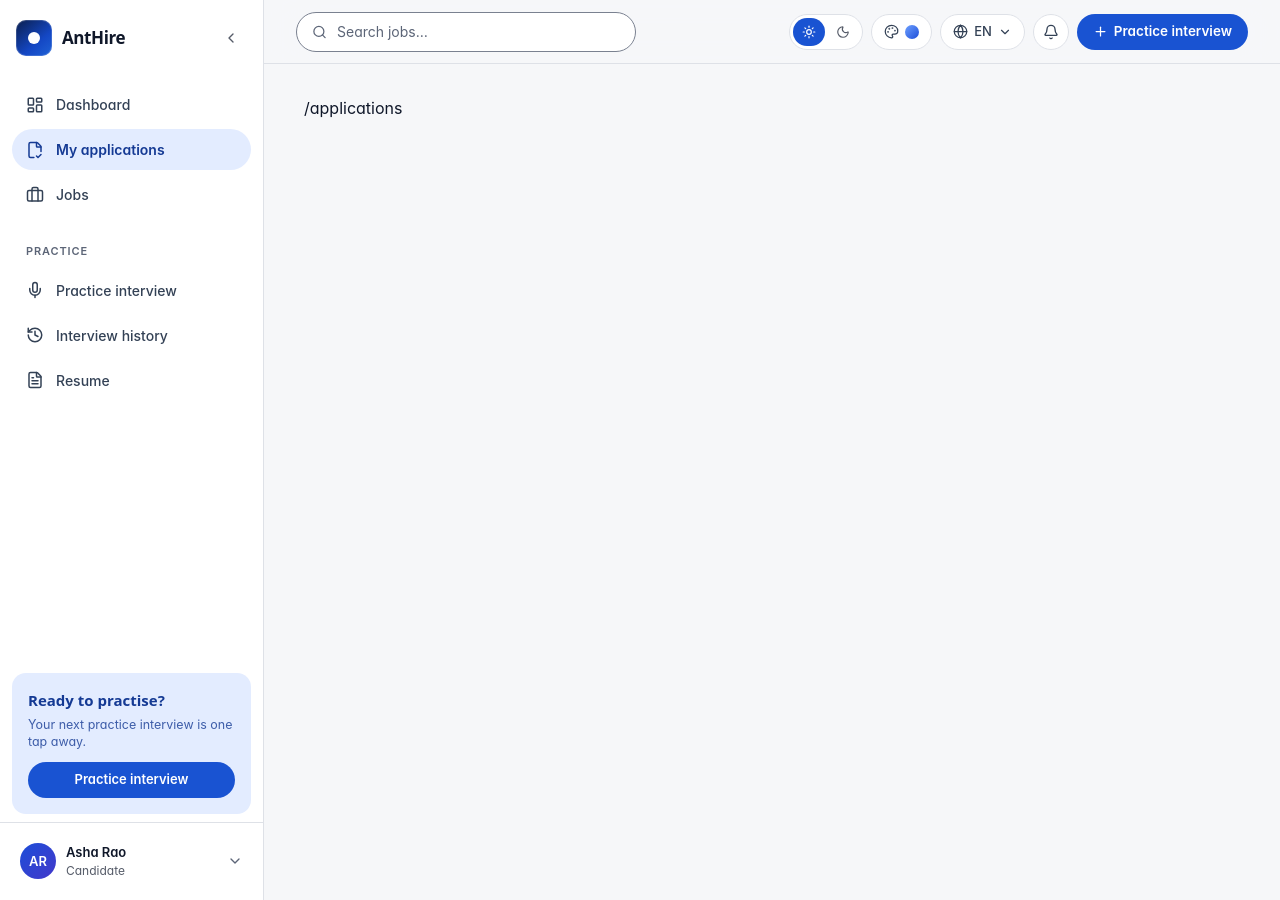
Test: AppShell - search and storage › carries the typed term to /jobs
Type "data entry" into the search field labelled "Search jobs" at (466, 32), box left=296, top=12, right=636, bottom=52
Then press Enter
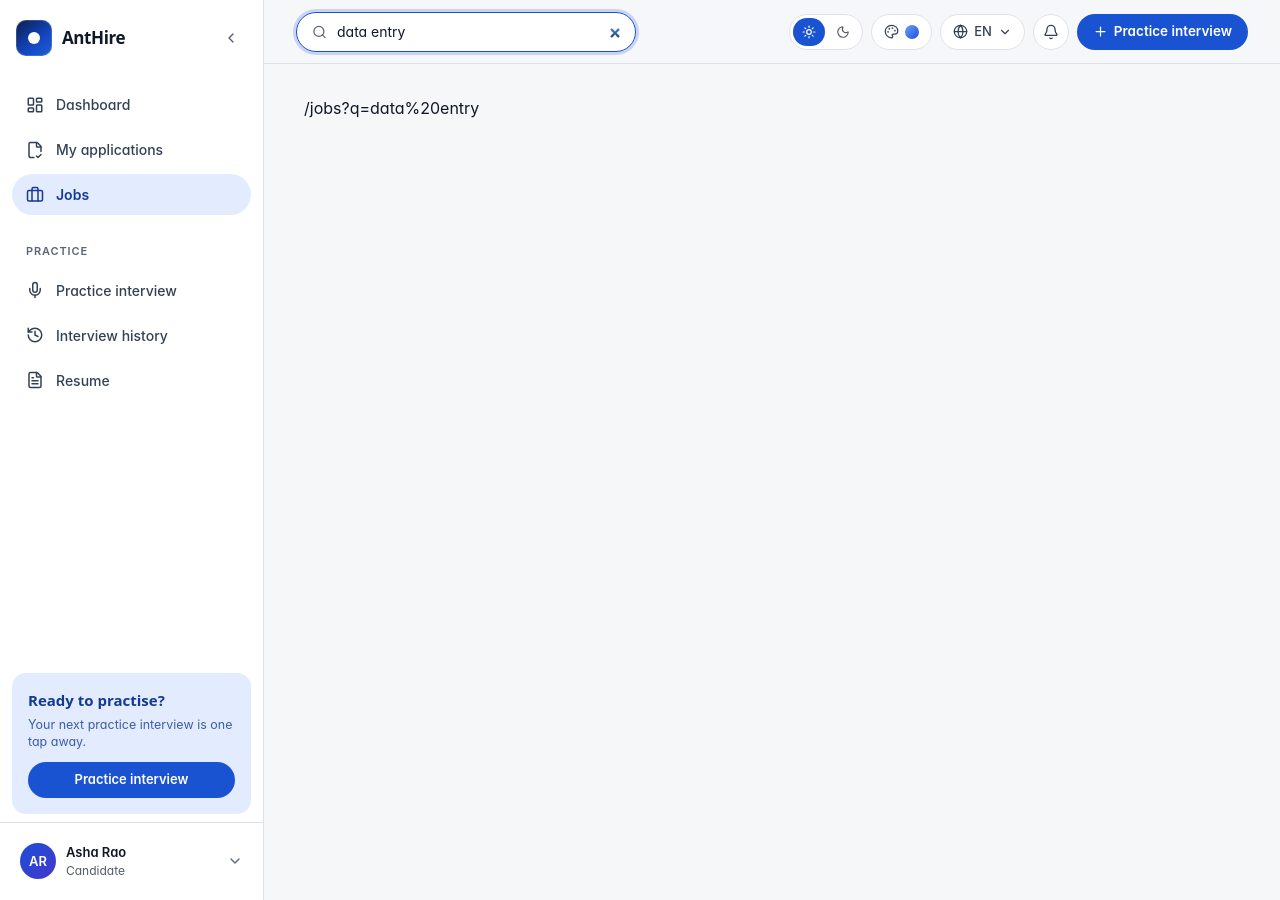
Check: the text with test id "where" reads "/jobs?q=data%20entry", box left=304, top=98, right=479, bottom=118
